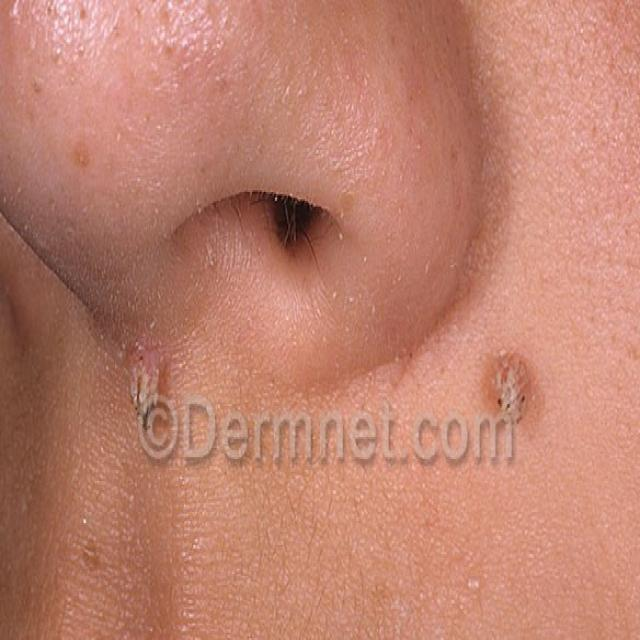Warts: (116, 332, 186, 464), (487, 339, 542, 458)
